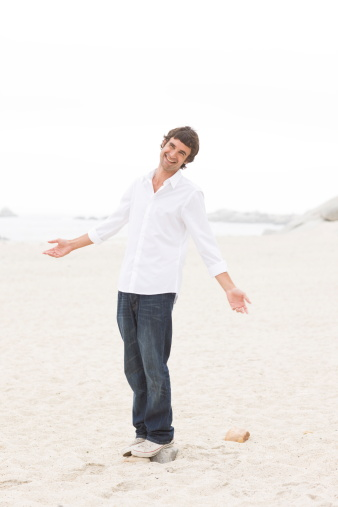em pe: (47, 120, 238, 450)
